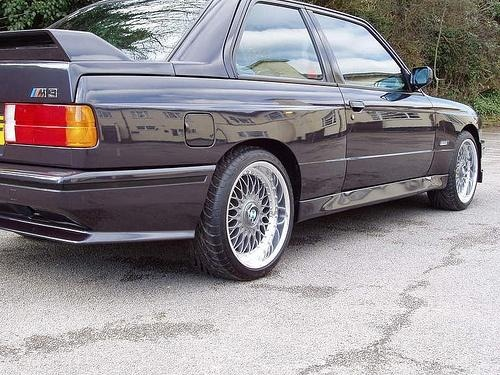car: (1, 1, 484, 287)
